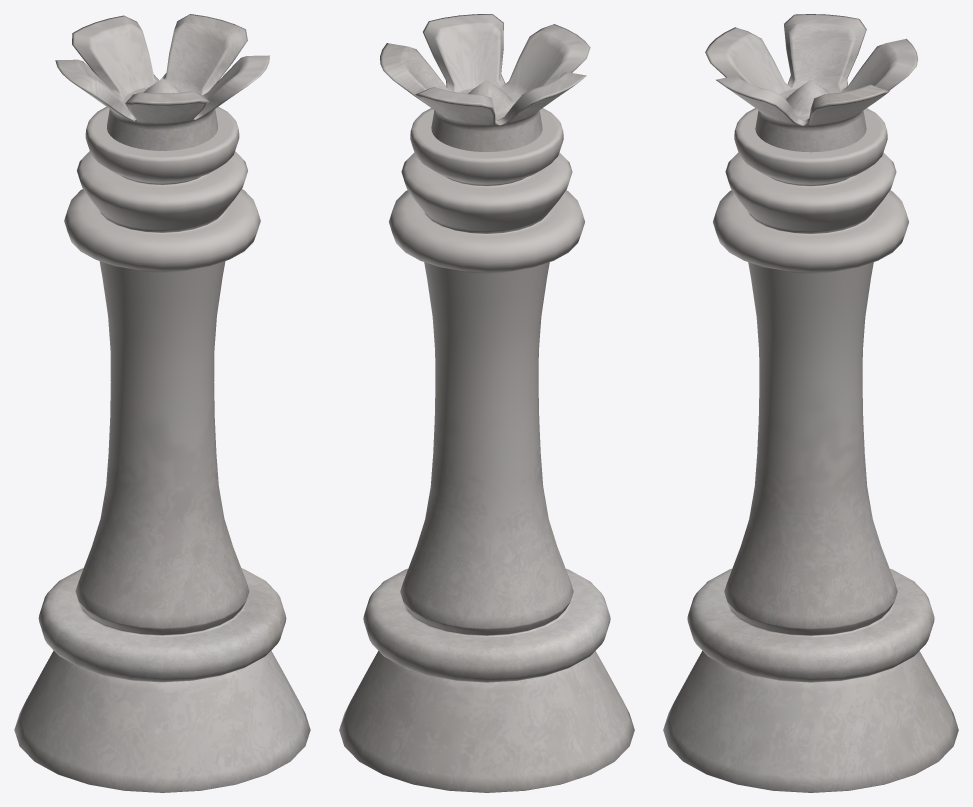
File: queen_white.obj
The picture shows the model from 3 angles, left to right: view 1: azimuth 30°, elevation 25°; view 2: azimuth 150°, elevation 25°; view 3: azimuth 270°, elevation 25°; orthographic projection.
Parts seen in each view (by area): view 1: queen_Cylinder.008; view 2: queen_Cylinder.008; view 3: queen_Cylinder.008.
Part boxes in pixels (x1,y1,x2,y2): queen_Cylinder.008: (14,14,310,792); queen_Cylinder.008: (339,14,634,792); queen_Cylinder.008: (663,14,958,792).
Bounding box in the file's own units: 0.9172 × 2.3 × 0.9172.
Materials: 1 (1 with a texture image).
